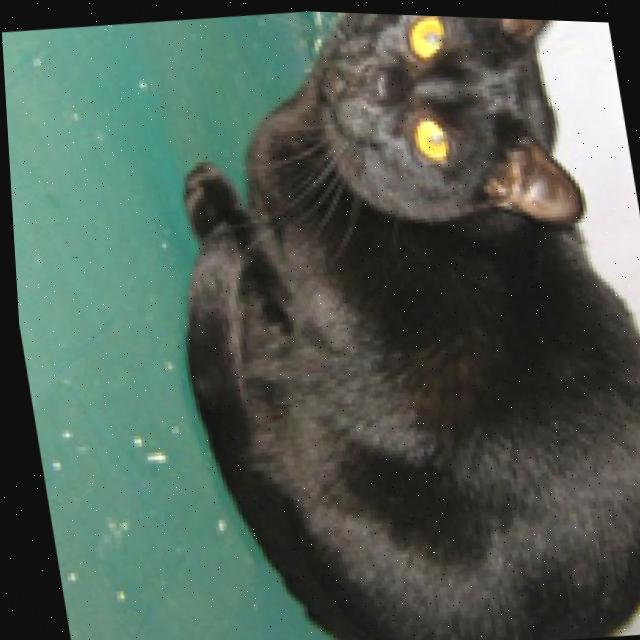Bombay: (127, 4, 640, 640)
